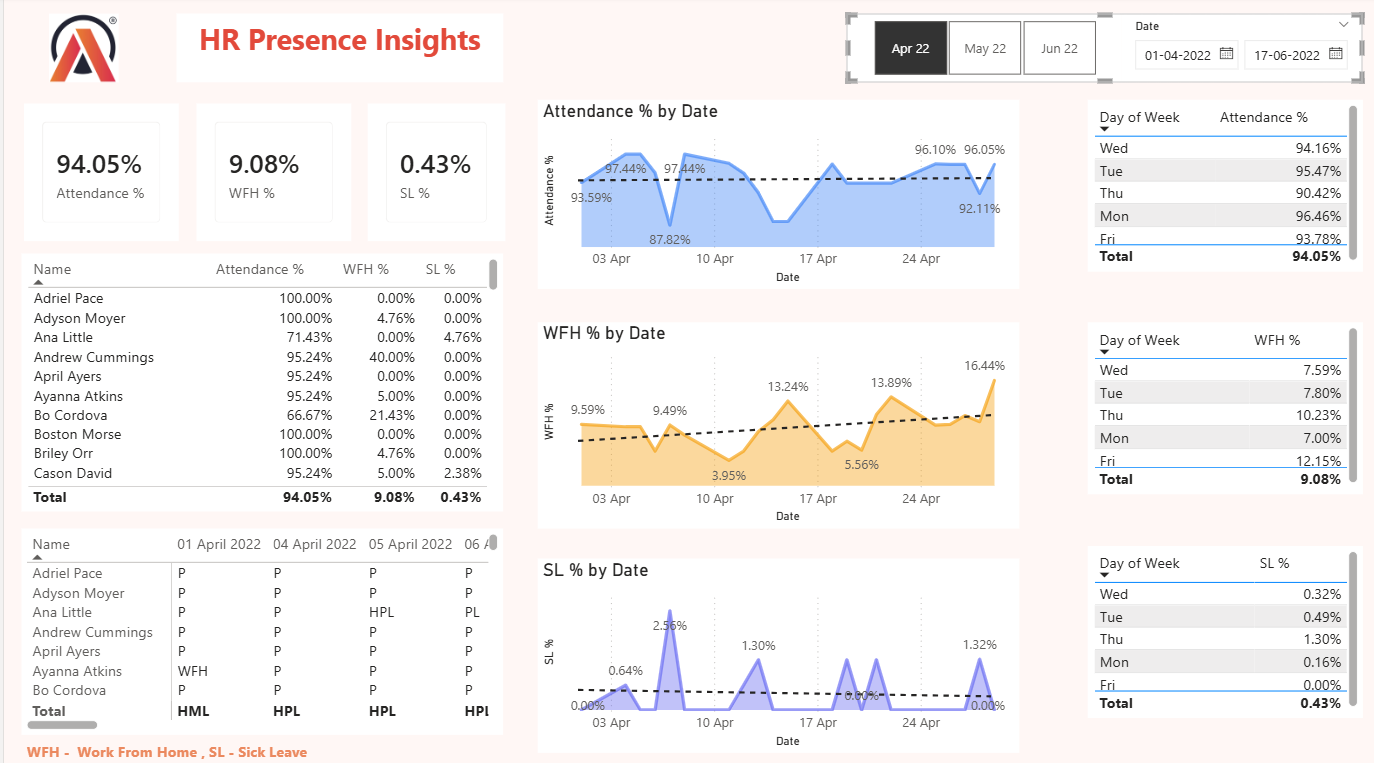

The dashboard page shown, as its layout file describes it:
{"tool":"powerbi","page":{"name":"Page 1","canvas":[1280,720],"ordinal":0},"visuals":[{"type":"slicer","fields":{"Values":["Final Data.Month"]},"box":[784,16,256,64],"z":0,"group":"g4"},{"type":"tableEx","fields":{"Values":["Final Data.Day of Week","Measures (2).Presence %"]},"box":[1008,96,256,160],"z":0},{"type":"cardVisual","fields":{"Data":["Measures (2).Presence %"]},"box":[18.1,100.5,144,128],"z":0,"group":"g2"},{"type":"slicer","fields":{"Values":["Final Data.Date"]},"box":[1040,16,224,64],"z":1000,"group":"g4"},{"type":"tableEx","fields":{"Values":["Final Data.Day of Week","Measures (2).WFH %"]},"box":[1008,304,256,160],"z":1000},{"type":"group","id":"g1","title":"Group 1","box":[16,16,448,64],"z":2000},{"type":"cardVisual","fields":{"Data":["Measures (2).WFH %"]},"box":[178.1,100.5,144,128],"z":2000,"group":"g2"},{"type":"cardVisual","fields":{"Data":["Measures (2).SL %"]},"box":[338.1,100.5,128,128],"z":3000,"group":"g2"},{"type":"tableEx","fields":{"Values":["Final Data.Day of Week","Measures (2).SL %"]},"box":[1008,512,256,160],"z":3000},{"type":"tableEx","fields":{"Values":["Final Data.Name","Measures (2).Presence %","Measures (2).WFH %","Measures (2).SL %"]},"box":[16,240,448,240],"z":4000,"group":"g3"},{"type":"textbox","box":[16,688,448,32],"z":4000},{"type":"textbox","box":[160,16,304,64],"z":5000,"group":"g1"},{"type":"group","id":"g2","title":"Group 2","box":[18.1,100.5,448,128],"z":5000},{"type":"group","id":"g3","title":"Group 3","box":[16,240,448,448],"z":6000},{"type":"pivotTable","fields":{"Rows":["Final Data.Name"],"Values":["Min(Final Data.Value)"],"Columns":["Final Data.Date"]},"box":[16,496,448,192],"z":6000,"group":"g3"},{"type":"areaChart","fields":{"Category":["Final Data.Date"],"Y":["Measures (2).Presence %"]},"box":[496,96,448,176],"z":7000},{"type":"areaChart","fields":{"Category":["Final Data.Date"],"Y":["Measures (2).WFH %"]},"box":[496,304,448,192],"z":8000},{"type":"areaChart","fields":{"Category":["Final Data.Date"],"Y":["Measures (2).SL %"]},"box":[496,523.1,448,180.9],"z":9000},{"type":"group","id":"g4","title":"Group 4","box":[784,16,480,64],"z":10000},{"type":"image","box":[16,16,116.1,64],"z":14000,"group":"g1"}]}

Visuals, with their boxes in screenshot pixels (x1, y1, x2, y2), scaled from the page's 1280x720 canvas onto the 1374x763 screenshot:
slicer - Final Data.Month: x1=842, y1=17, x2=1116, y2=85
tableEx - Final Data.Day of Week x Measures (2).Presence %: x1=1082, y1=102, x2=1357, y2=271
cardVisual - Measures (2).Presence %: x1=19, y1=107, x2=174, y2=242
slicer - Final Data.Date: x1=1116, y1=17, x2=1357, y2=85
tableEx - Final Data.Day of Week x Measures (2).WFH %: x1=1082, y1=322, x2=1357, y2=492
"Group 1" group: x1=17, y1=17, x2=498, y2=85
cardVisual - Measures (2).WFH %: x1=191, y1=107, x2=346, y2=242
cardVisual - Measures (2).SL %: x1=363, y1=107, x2=500, y2=242
tableEx - Final Data.Day of Week x Measures (2).SL %: x1=1082, y1=543, x2=1357, y2=712
tableEx - Final Data.Name x Measures (2).Presence %: x1=17, y1=254, x2=498, y2=509
textbox: x1=17, y1=729, x2=498, y2=762
textbox: x1=172, y1=17, x2=498, y2=85
"Group 2" group: x1=19, y1=107, x2=500, y2=242
"Group 3" group: x1=17, y1=254, x2=498, y2=729
pivotTable - Final Data.Name x Min(Final Data.Value): x1=17, y1=526, x2=498, y2=729
areaChart - Final Data.Date x Measures (2).Presence %: x1=532, y1=102, x2=1013, y2=288
areaChart - Final Data.Date x Measures (2).WFH %: x1=532, y1=322, x2=1013, y2=526
areaChart - Final Data.Date x Measures (2).SL %: x1=532, y1=554, x2=1013, y2=746
"Group 4" group: x1=842, y1=17, x2=1357, y2=85
image: x1=17, y1=17, x2=142, y2=85
